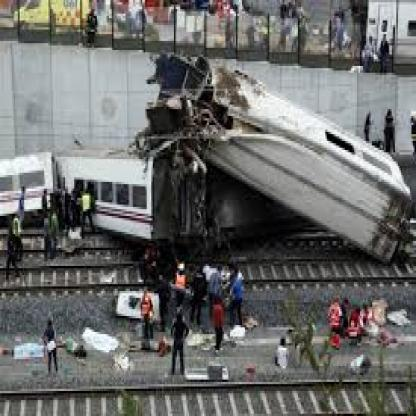accident: (92, 37, 408, 281)
